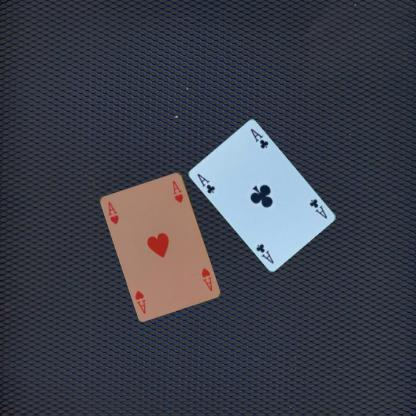Ac: (194, 171, 216, 195), (307, 197, 329, 220)
Ah: (105, 199, 120, 225), (199, 265, 213, 292)
